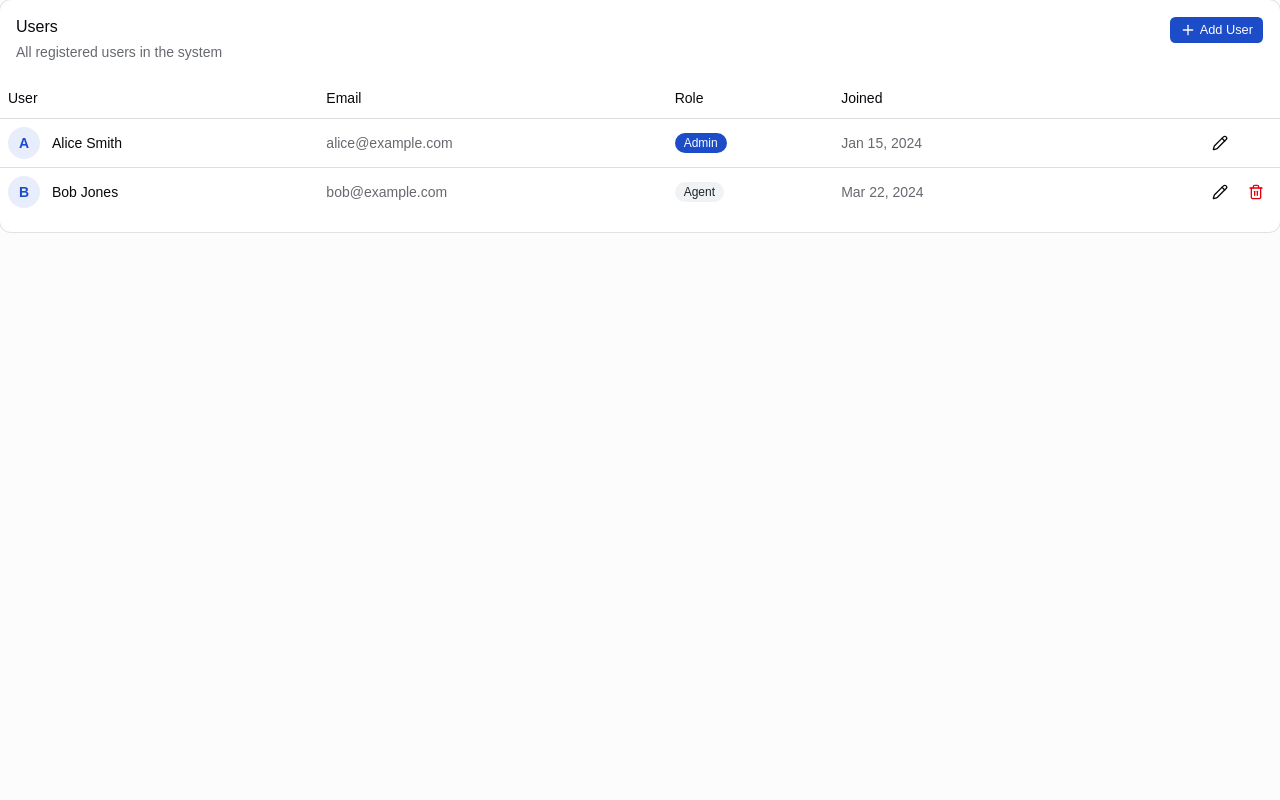
Test: UsersPage › Edit User dialog › closes the edit dialog when the Escape key is pressed
This screenshot has width=1280, height=800.
Expected: the text "Alice Smith" is shown, [52,132,122,152]
Click the button named "Edit Alice Smith".
click(1220, 142)  # box [1204,126,1236,158]
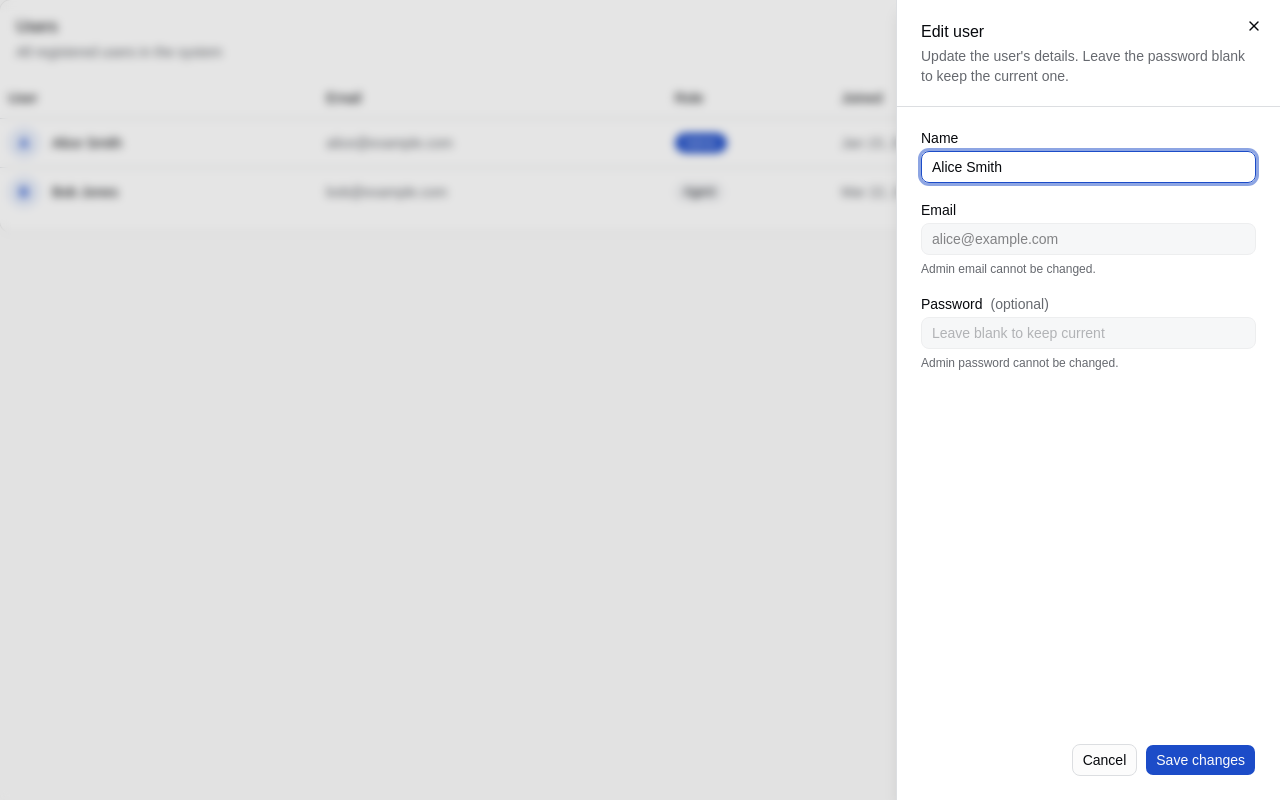
Result: the dialog is shown at [896,0,1279,799]
Press Escape
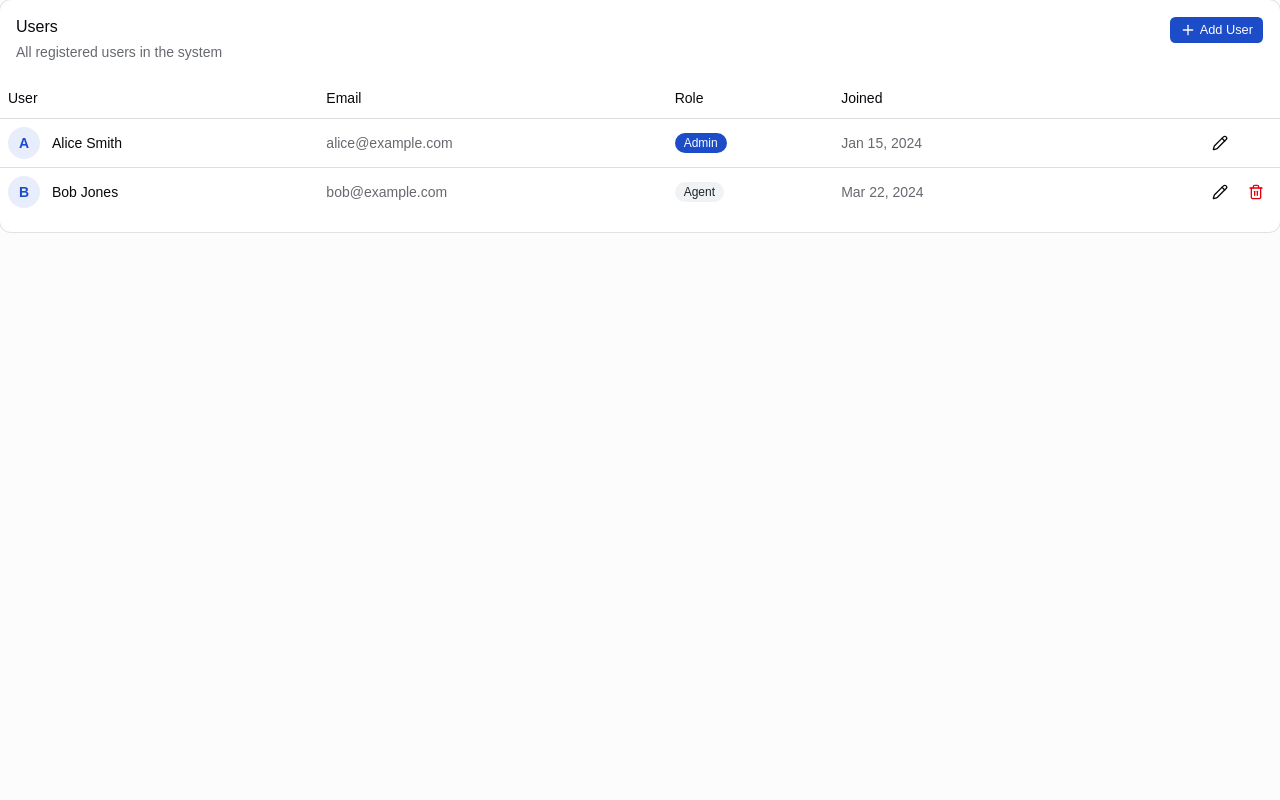
Result: the dialog is gone
